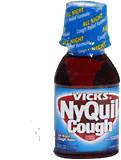grozi_49: (53, 0, 120, 158)
